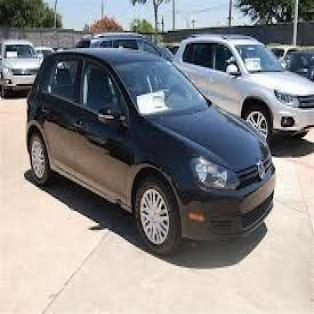Auto: (23, 38, 277, 254)
